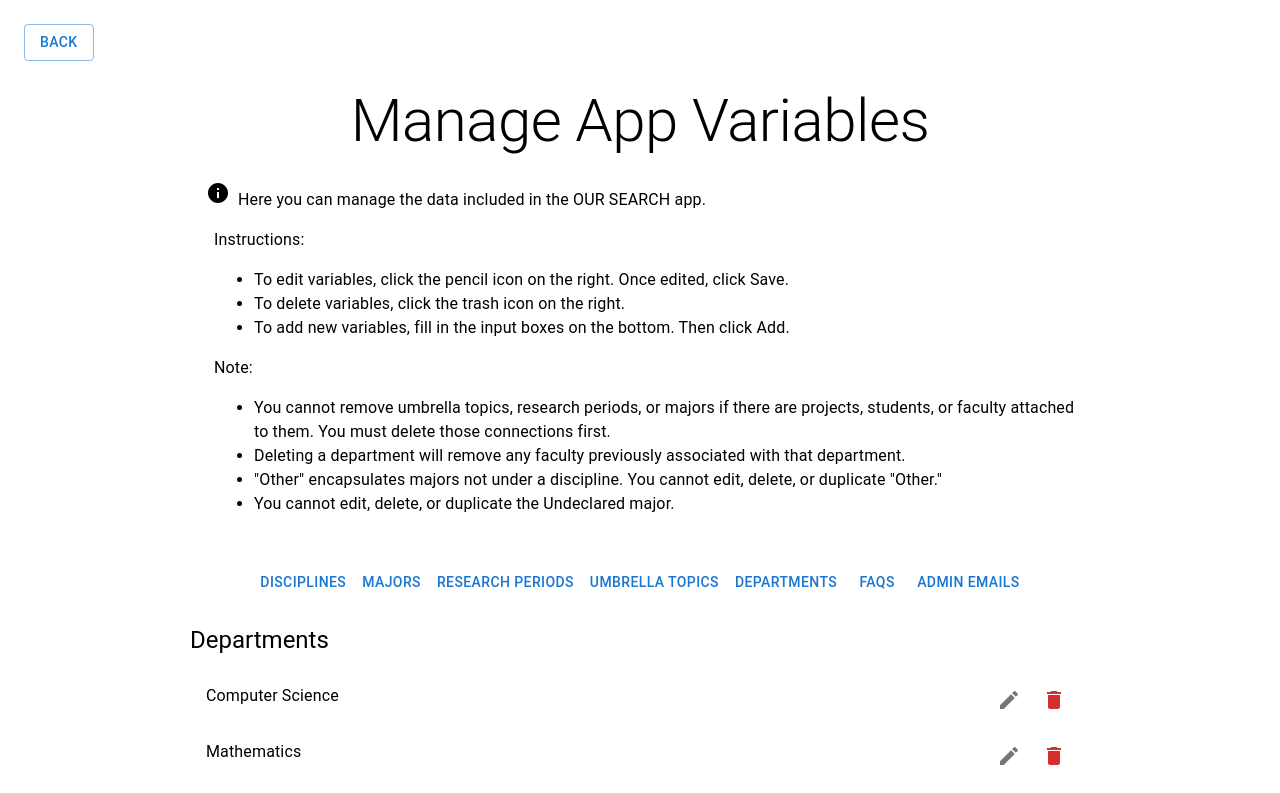
Test: ManageVariables › handling departments › editing › shows edit button; shows save button after clicking edit
Click the 1st button with test id "edit-department-btn" at (1009, 700), box [989,680,1029,720]
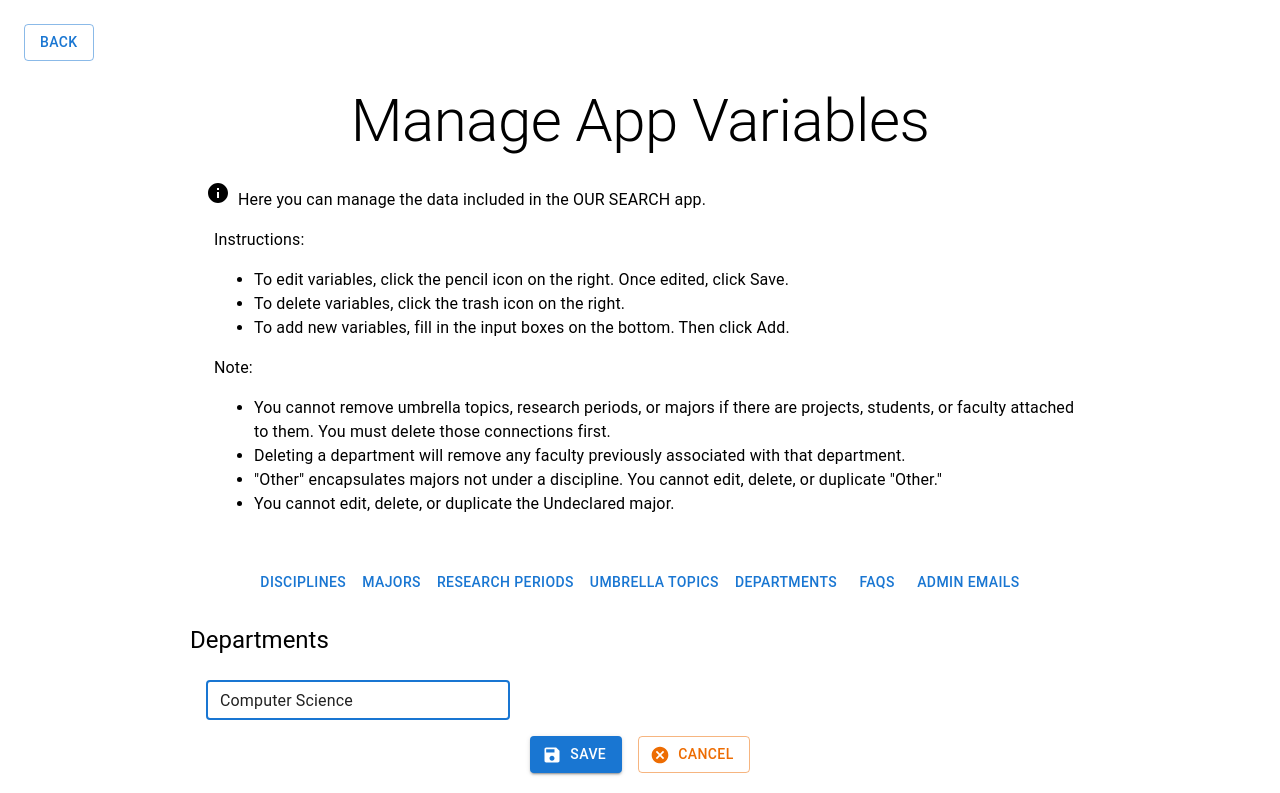
expect the button with test id "save-department-btn" is shown: met, box [530,736,622,773]
